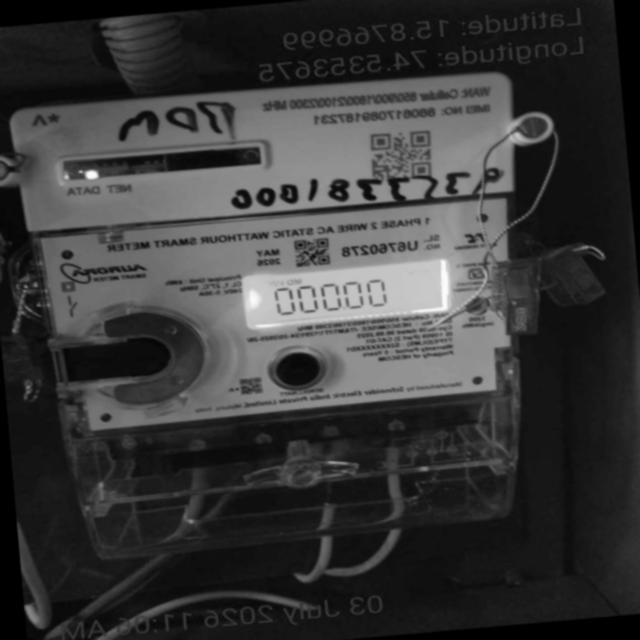meter: (8, 75, 533, 428)
